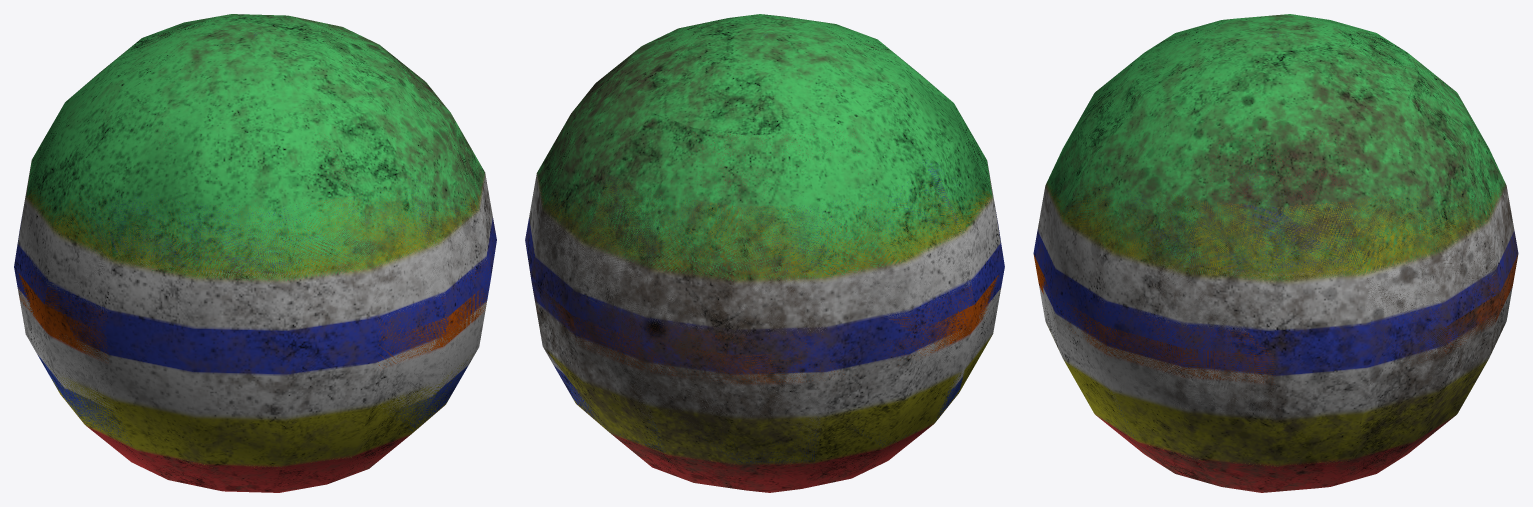
File: Ball.fbx
3 views of the same model, side by side, from view 1: azimuth 30°, elevation 25°; view 2: azimuth 150°, elevation 25°; view 3: azimuth 270°, elevation 25° (orthographic).
Parts seen in each view (by area): view 1: Ball3, Ball2, Ball1; view 2: Ball3, Ball2, Ball1; view 3: Ball3, Ball2, Ball1.
Boxes of the visible parts, x1=… form: Ball3: x1=14, y1=148, x2=496, y2=492; Ball2: x1=26, y1=14, x2=484, y2=467; Ball1: x1=17, y1=33, x2=488, y2=461; Ball3: x1=525, y1=132, x2=1004, y2=492; Ball2: x1=537, y1=14, x2=992, y2=466; Ball1: x1=533, y1=34, x2=999, y2=463; Ball3: x1=1033, y1=136, x2=1518, y2=492; Ball2: x1=1046, y1=14, x2=1505, y2=466; Ball1: x1=1033, y1=34, x2=1518, y2=464.
Size of the model in its own units: 0.0724 by 0.0724 by 0.0724.
